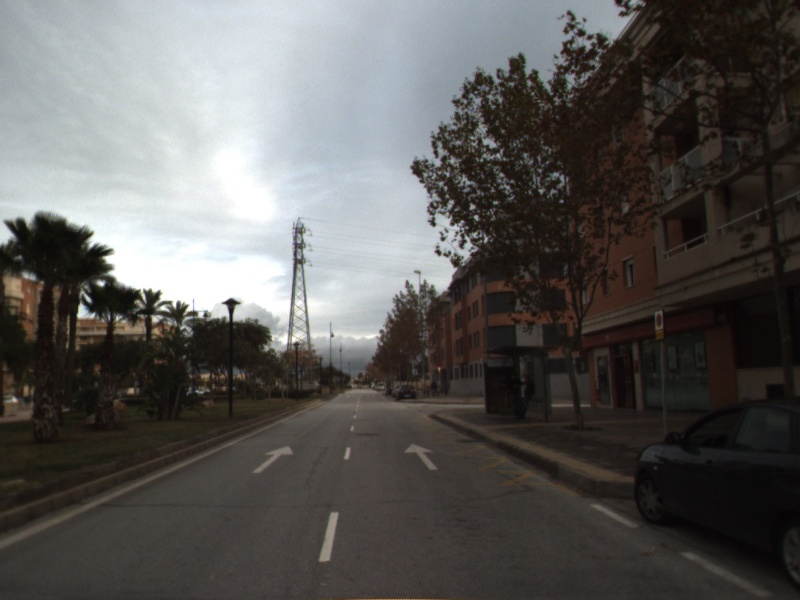STRAIGHT: (251, 443, 296, 475), (402, 441, 440, 472)
